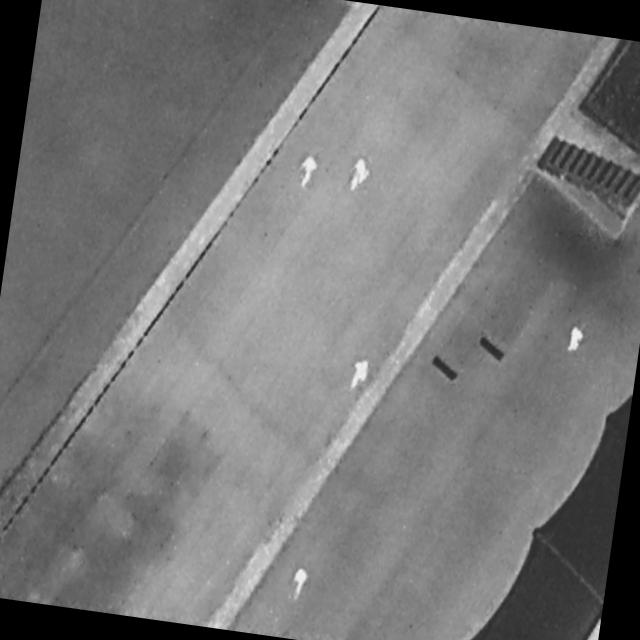person: (345, 353, 377, 396), (346, 155, 376, 198), (295, 153, 321, 193), (291, 564, 311, 606), (566, 322, 586, 356)
